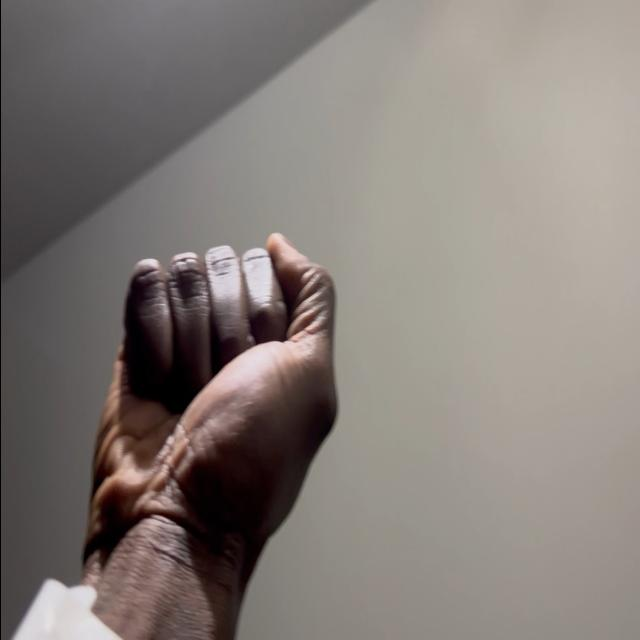Rock: (83, 232, 341, 594)
